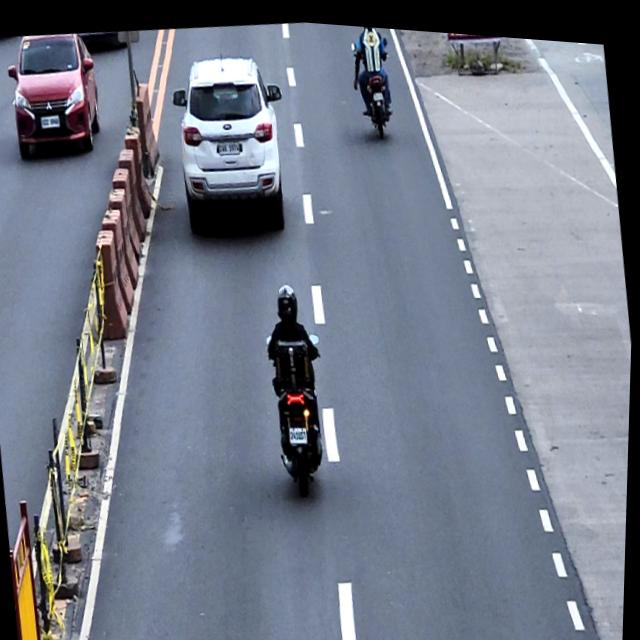Car: (163, 40, 304, 241), (0, 26, 109, 163)
License-Plate: (217, 133, 241, 154), (291, 420, 310, 440), (41, 113, 61, 128), (372, 84, 384, 96)
Motorcycle: (263, 322, 343, 498), (346, 21, 400, 137)
